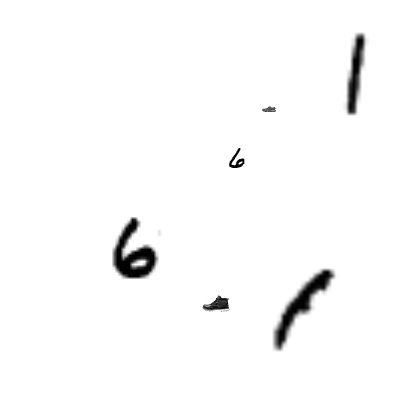1: (242, 246, 354, 358), (296, 14, 408, 126)
6: (89, 212, 173, 296), (222, 147, 250, 175)
Ankle_boot: (202, 289, 230, 317)
Sandal: (262, 102, 276, 116)
